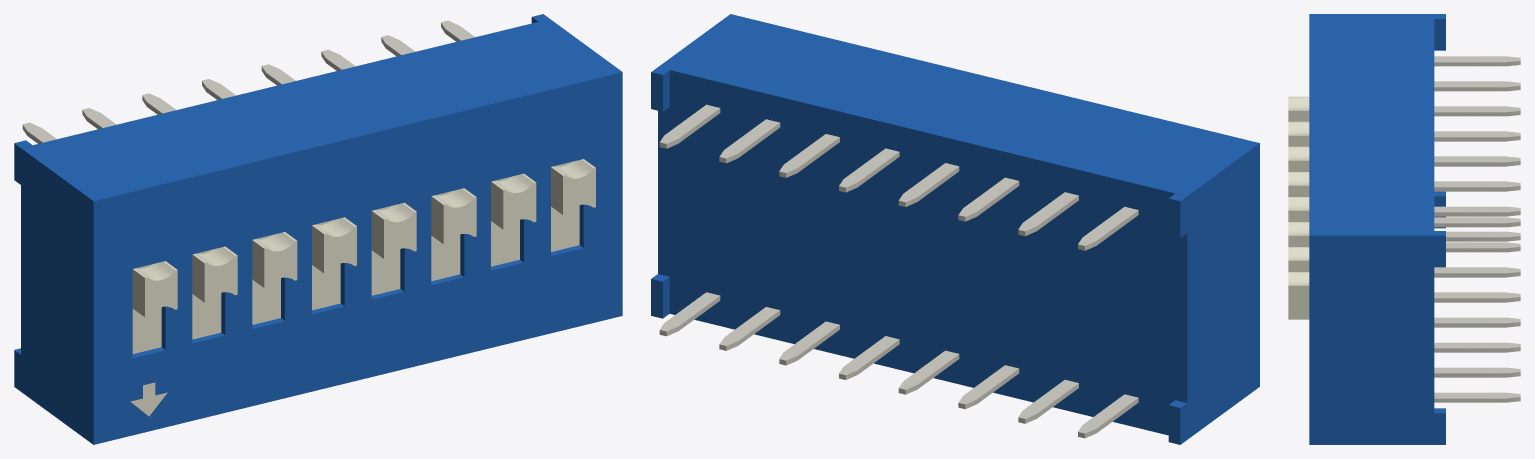
File: dip-switch-8.glb
The picture shows the model from 3 angles, left to right: view 1: azimuth 30°, elevation 25°; view 2: azimuth 150°, elevation 25°; view 3: azimuth 270°, elevation 25°; orthographic projection. The views are drawn at different scales.
Parts seen in each view (by area): view 1: PLASTIC-BLUE-01, PLASTIC-WHITE-01 (×17), PIN-01; view 2: PLASTIC-BLUE-01, PIN-01; view 3: PLASTIC-BLUE-01, PIN-01, PLASTIC-WHITE-01 (×9).
Boxes of the visible parts, x1=… form: PLASTIC-BLUE-01: x1=14, y1=14, x2=622, y2=444; PLASTIC-WHITE-01 (×17): x1=130, y1=159, x2=595, y2=416; PIN-01: x1=22, y1=20, x2=474, y2=143; PLASTIC-BLUE-01: x1=651, y1=14, x2=1259, y2=444; PIN-01: x1=659, y1=104, x2=1138, y2=438; PLASTIC-BLUE-01: x1=1309, y1=14, x2=1445, y2=444; PIN-01: x1=1434, y1=56, x2=1520, y2=402; PLASTIC-WHITE-01 (×9): x1=1288, y1=96, x2=1309, y2=319.
Bounding box in the file's own units: 22.5 × 9.9 × 9.95.
